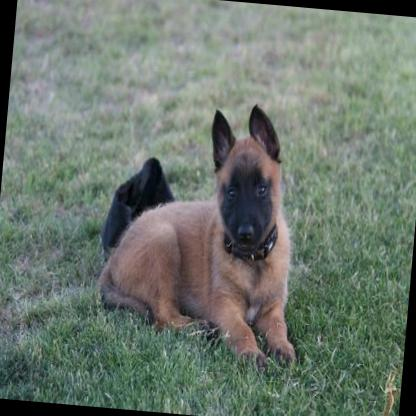malinois: (90, 90, 314, 366)
